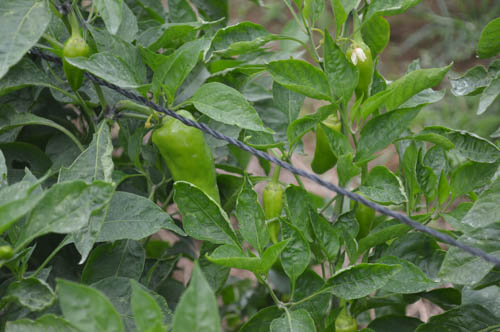ChiliPepper: (153, 114, 219, 222), (311, 117, 344, 180), (260, 184, 288, 239), (347, 48, 377, 98), (60, 42, 91, 89)
